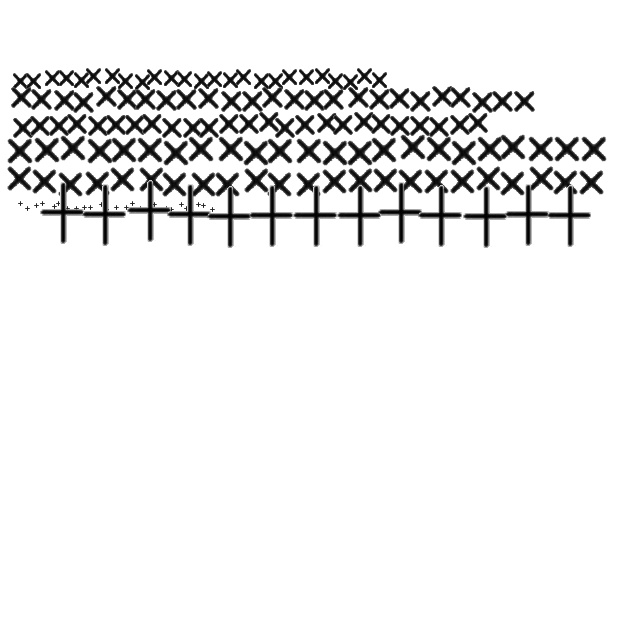double: (124, 180, 174, 244), (164, 184, 214, 248), (204, 186, 254, 250), (460, 186, 510, 250), (502, 184, 552, 248), (246, 186, 296, 248), (290, 186, 340, 248), (334, 186, 384, 248), (544, 186, 594, 248), (38, 182, 86, 246), (80, 184, 128, 248), (376, 182, 424, 246), (416, 186, 464, 248), (5, 134, 35, 166), (32, 133, 62, 165), (58, 131, 88, 163), (85, 134, 115, 166), (109, 133, 139, 165), (135, 133, 165, 165), (161, 136, 191, 168), (186, 132, 216, 164), (216, 132, 246, 164), (241, 136, 271, 168), (265, 134, 295, 166), (294, 134, 324, 166), (320, 136, 350, 168), (345, 136, 375, 168), (369, 133, 399, 165), (398, 130, 428, 162), (424, 132, 454, 164), (449, 136, 479, 168), (475, 132, 505, 164), (498, 130, 528, 162), (526, 132, 556, 164), (552, 132, 582, 164), (579, 132, 609, 164), (56, 168, 86, 200), (160, 168, 190, 200), (242, 164, 272, 196), (294, 168, 324, 200), (346, 164, 376, 196), (474, 162, 504, 194), (30, 166, 60, 196), (108, 164, 138, 194), (320, 166, 350, 196), (396, 166, 426, 196), (422, 166, 452, 196), (448, 166, 478, 196), (498, 168, 528, 198), (6, 162, 34, 194), (190, 168, 218, 200), (214, 168, 242, 200), (266, 168, 294, 200), (372, 164, 400, 196), (528, 162, 556, 194), (552, 166, 580, 198), (578, 166, 606, 198), (84, 168, 112, 198), (138, 164, 166, 194), (52, 86, 78, 114), (94, 82, 120, 110), (154, 86, 180, 114), (196, 84, 222, 112), (302, 86, 328, 114), (430, 82, 456, 110), (470, 88, 496, 116), (174, 86, 200, 112), (240, 88, 266, 114), (260, 84, 286, 110), (282, 86, 308, 112), (346, 84, 372, 110), (408, 88, 434, 114), (448, 84, 474, 110), (490, 88, 516, 114), (512, 88, 538, 114), (72, 88, 96, 116), (388, 84, 412, 112), (10, 84, 34, 110), (30, 86, 54, 112), (116, 86, 140, 112), (134, 86, 158, 112), (220, 88, 244, 114), (322, 86, 346, 112), (368, 86, 392, 112), (11, 114, 35, 140), (28, 112, 52, 138), (47, 112, 71, 138), (65, 110, 89, 136), (86, 112, 110, 138), (104, 111, 128, 137), (123, 111, 147, 137), (140, 110, 164, 136), (160, 114, 184, 140), (181, 114, 205, 140), (197, 114, 221, 140), (217, 110, 241, 136), (237, 110, 261, 136), (257, 108, 281, 134), (273, 114, 297, 140), (293, 111, 317, 137), (315, 109, 339, 135), (331, 111, 355, 137), (352, 108, 376, 134), (369, 110, 393, 136), (388, 112, 412, 138), (408, 112, 432, 138), (427, 113, 451, 139), (448, 111, 472, 137), (466, 109, 490, 135), (24, 70, 44, 92), (116, 70, 136, 92), (192, 70, 212, 92), (234, 66, 254, 88), (252, 70, 272, 92), (266, 70, 286, 92), (280, 66, 300, 88), (326, 70, 346, 92), (72, 70, 92, 90), (84, 66, 104, 86), (162, 68, 182, 88), (370, 70, 390, 90), (12, 70, 30, 92), (146, 66, 164, 88), (176, 68, 194, 90), (206, 68, 224, 90), (298, 66, 316, 88), (44, 68, 62, 88), (58, 68, 76, 88), (104, 66, 122, 86), (134, 72, 152, 92), (222, 70, 240, 90), (314, 66, 332, 86), (342, 72, 360, 92), (356, 66, 374, 86), (52, 204, 58, 210), (74, 206, 80, 212), (138, 206, 144, 212), (152, 202, 158, 208), (164, 206, 170, 212), (184, 206, 190, 212), (196, 202, 202, 208), (18, 202, 24, 206), (26, 206, 30, 212), (34, 204, 40, 208), (40, 202, 46, 206), (56, 202, 62, 206), (66, 206, 70, 212), (82, 206, 88, 210), (88, 206, 94, 210), (100, 202, 104, 208), (104, 208, 110, 212), (114, 206, 120, 210), (124, 206, 130, 210), (130, 202, 136, 206), (148, 202, 154, 206), (180, 202, 184, 208), (210, 208, 216, 212), (170, 208, 174, 212), (202, 204, 206, 208)
